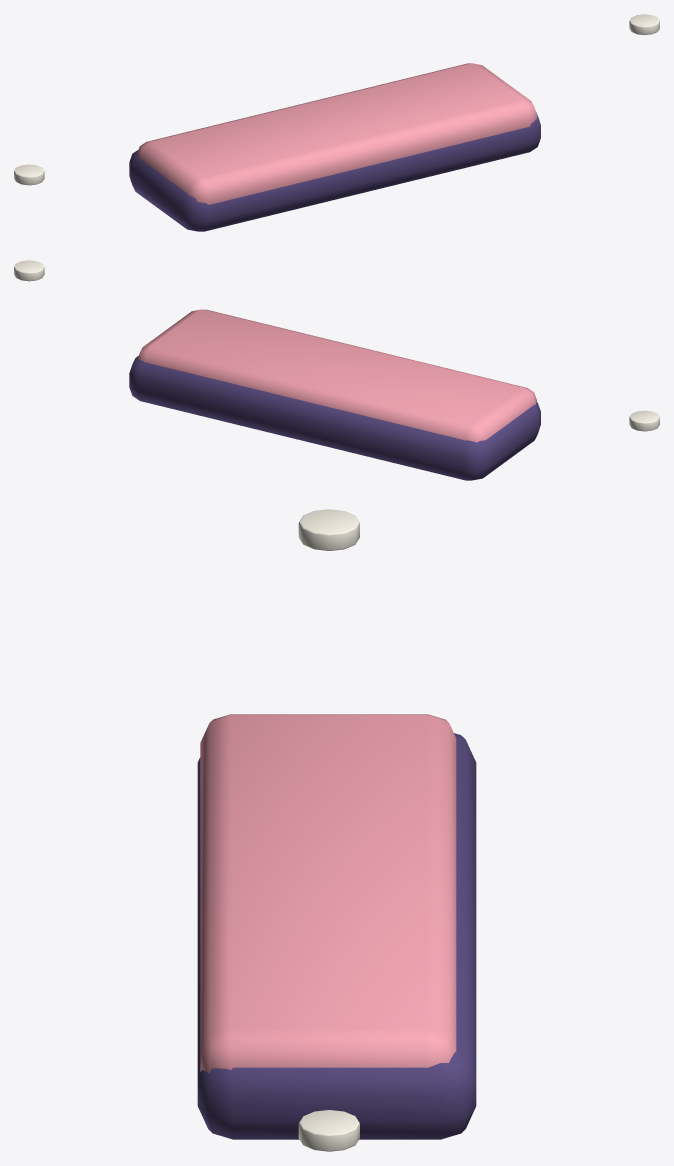
The model's file is music_bar_0.glb.
3 renders of one model, top to bottom at view 1: azimuth 30°, elevation 25°; view 2: azimuth 150°, elevation 25°; view 3: azimuth 270°, elevation 25°, orthographic. The views are drawn at different scales.
Visible parts, largest first — view 1: PaintedKey, InkKey, PearlPin_1.0, PearlPin_-1.0; view 2: PaintedKey, InkKey, PearlPin_1.0, PearlPin_-1.0; view 3: PaintedKey, InkKey, PearlPin_-1.0, PearlPin_1.0.
Part boxes in pixels (<box>): PaintedKey: <box>137,63,536,204</box>; InkKey: <box>129,112,540,231</box>; PearlPin_1.0: <box>629,14,659,35</box>; PearlPin_-1.0: <box>14,164,44,185</box>; PaintedKey: <box>137,309,536,442</box>; InkKey: <box>129,356,540,480</box>; PearlPin_1.0: <box>14,260,44,281</box>; PearlPin_-1.0: <box>629,410,659,431</box>; PaintedKey: <box>200,714,456,1073</box>; InkKey: <box>197,733,476,1139</box>; PearlPin_-1.0: <box>298,509,359,550</box>; PearlPin_1.0: <box>298,1110,359,1151</box>.
Bounding box in the file's own units: 7.76 × 0.9125 × 1.46.
